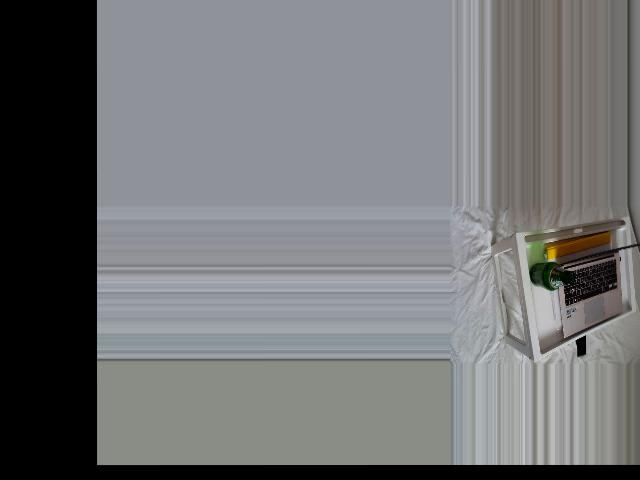beer: (529, 261, 574, 289)
